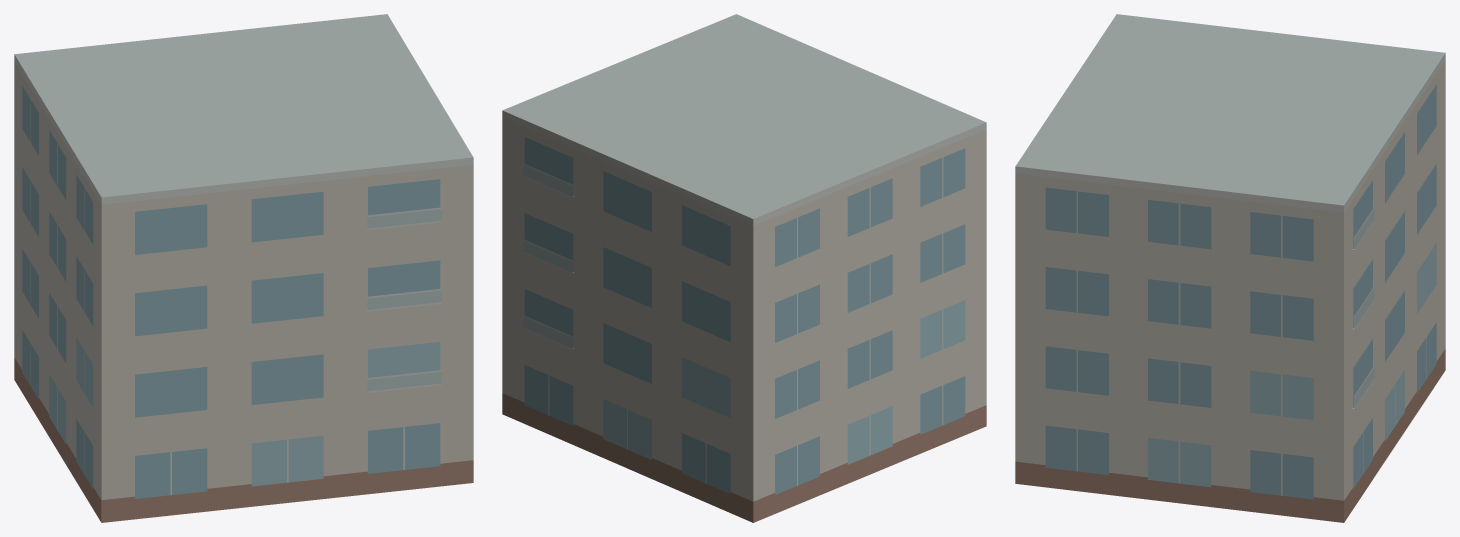
Rendered from survey-upis-32741855.glb.
3 renders of one model, left to right at view 1: azimuth 30°, elevation 25°; view 2: azimuth 150°, elevation 25°; view 3: azimuth 270°, elevation 25°, orthographic. The views are drawn at different scales.
Visible parts, largest first — view 1: survey-upis-32741855.tmp; view 2: survey-upis-32741855.tmp; view 3: survey-upis-32741855.tmp.
Boxes of the visible parts, x1,y1,x2,y2 form: survey-upis-32741855.tmp: [14, 14, 473, 522]; survey-upis-32741855.tmp: [502, 14, 986, 522]; survey-upis-32741855.tmp: [1015, 14, 1445, 522].
Size of the model in its own units: 14.05 by 10.85 by 13.34.
